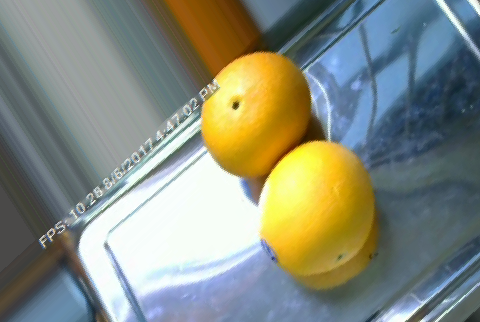Orange: (256, 138, 375, 276), (199, 50, 310, 177)
